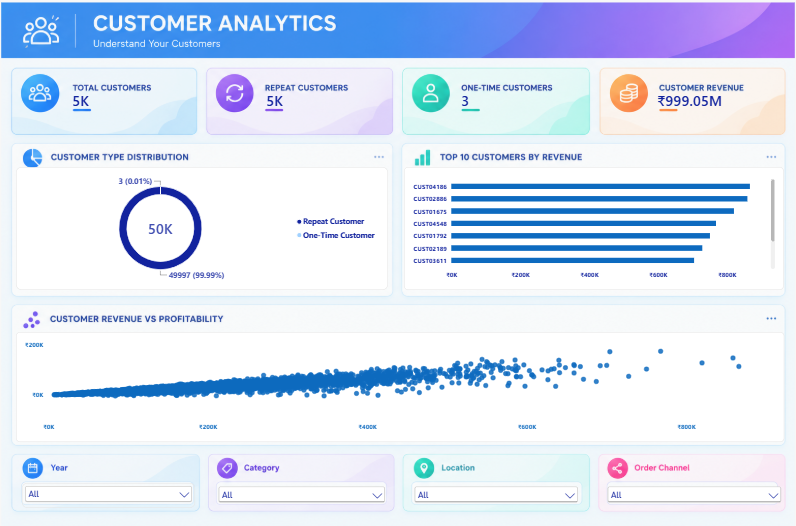

The page's visual inventory and layout, read from the dashboard file:
{"tool":"powerbi","page":{"name":"Customer Analytics","canvas":[1920,1080],"ordinal":1},"visuals":[{"type":"cardVisual","fields":{"Data":["retail_sales_cleaned.Total Customers"]},"box":[313.3,166.7,173.3,93.3],"z":0},{"type":"cardVisual","fields":{"Data":["retail_sales_cleaned.Repeat Customers"]},"box":[688.3,166.7,173.3,93.3],"z":1000},{"type":"cardVisual","fields":{"Data":["retail_sales_cleaned.One-Time Customers"]},"box":[1066.7,166.7,173.3,93.3],"z":2000},{"type":"cardVisual","fields":{"Data":["retail_sales_cleaned.Total Revenue"]},"box":[1445,166.7,173.3,93.3],"z":3000},{"type":"donutChart","fields":{"Category":["retail_sales_cleaned.Customer_Type"],"Y":["CountNonNull(retail_sales_cleaned.Customer_ID)"]},"box":[220,341.7,720,238.3],"z":4000},{"type":"clusteredBarChart","fields":{"Category":["retail_sales_cleaned.Customer_ID"],"Y":["retail_sales_cleaned.Total Revenue"]},"box":[971.7,341.7,735,238.3],"z":5000},{"type":"scatterChart","fields":{"Category":["retail_sales_cleaned.Customer_ID"],"X":["retail_sales_cleaned.Total Revenue"],"Y":["retail_sales_cleaned.Total Profit"]},"box":[220,661.7,1486.7,213.3],"z":6000},{"type":"slicer","fields":{"Values":["retail_sales_cleaned.Year"]},"box":[231.7,955,335,48.3],"z":7000},{"type":"slicer","fields":{"Values":["retail_sales_cleaned.Category"]},"box":[608,956,332,48],"z":8000},{"type":"slicer","fields":{"Values":["retail_sales_cleaned.Location"]},"box":[988,956,326,48],"z":9000},{"type":"slicer","fields":{"Values":["retail_sales_cleaned.Order_Channel"]},"box":[1360,956,346,48],"z":10000}]}

Visuals, with their boxes on the page's 1920x1080 design canvas (x1, y1, x2, y2). These are canvas units, not pixel positions in the 796x526 screenshot, which may show the page scaled, cropped or inside an application window:
cardVisual - retail_sales_cleaned.Total Customers: x1=313 y1=167 x2=487 y2=260
cardVisual - retail_sales_cleaned.Repeat Customers: x1=688 y1=167 x2=862 y2=260
cardVisual - retail_sales_cleaned.One-Time Customers: x1=1067 y1=167 x2=1240 y2=260
cardVisual - retail_sales_cleaned.Total Revenue: x1=1445 y1=167 x2=1618 y2=260
donutChart - retail_sales_cleaned.Customer_Type x CountNonNull(retail_sales_cleaned.Customer_ID): x1=220 y1=342 x2=940 y2=580
clusteredBarChart - retail_sales_cleaned.Customer_ID x retail_sales_cleaned.Total Revenue: x1=972 y1=342 x2=1707 y2=580
scatterChart - retail_sales_cleaned.Customer_ID x retail_sales_cleaned.Total Revenue: x1=220 y1=662 x2=1707 y2=875
slicer - retail_sales_cleaned.Year: x1=232 y1=955 x2=567 y2=1003
slicer - retail_sales_cleaned.Category: x1=608 y1=956 x2=940 y2=1004
slicer - retail_sales_cleaned.Location: x1=988 y1=956 x2=1314 y2=1004
slicer - retail_sales_cleaned.Order_Channel: x1=1360 y1=956 x2=1706 y2=1004
